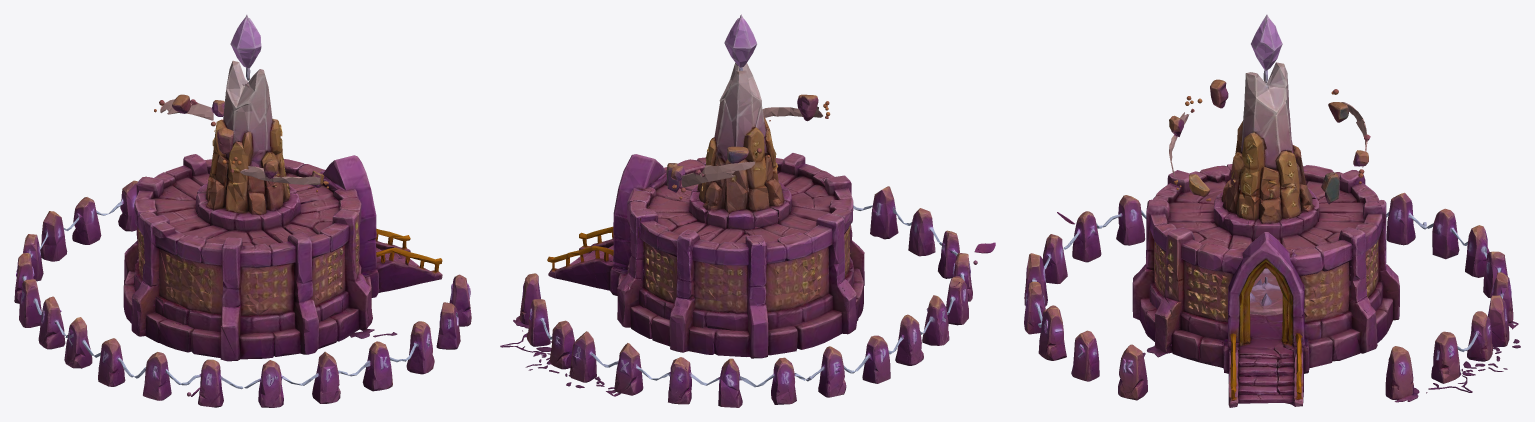
File: sanctuary_t4.glb
3 views of the same model, side by side, from view 1: azimuth 30°, elevation 25°; view 2: azimuth 150°, elevation 25°; view 3: azimuth 270°, elevation 25° (orthographic). The views are drawn at different scales.
Visible parts, largest first — view 1: tripo_part_17, tripo_part_20, tripo_part_21, tripo_part_41, tripo_part_1, tripo_part_6, tripo_part_0, tripo_part_16, tripo_part_2, tripo_part_4, tripo_part_19, tripo_part_12 (+10 smaller); view 2: tripo_part_17, tripo_part_20, tripo_part_21, tripo_part_41, tripo_part_51, tripo_part_1, tripo_part_32, tripo_part_16, tripo_part_27, tripo_part_34, tripo_part_29, tripo_part_30 (+13 smaller); view 3: tripo_part_17, tripo_part_20, tripo_part_21, tripo_part_41, tripo_part_1, tripo_part_51, tripo_part_33, tripo_part_7, tripo_part_29, tripo_part_34, tripo_part_6, tripo_part_36 (+11 smaller).
Part boxes in pixels (bbox=[...]): tripo_part_17: bbox=[123, 154, 382, 361]; tripo_part_20: bbox=[193, 60, 289, 215]; tripo_part_21: bbox=[375, 228, 442, 292]; tripo_part_41: bbox=[23, 197, 117, 281]; tripo_part_1: bbox=[244, 351, 370, 407]; tripo_part_6: bbox=[134, 352, 188, 400]; tripo_part_0: bbox=[362, 341, 412, 391]; tripo_part_16: bbox=[55, 317, 103, 368]; tripo_part_2: bbox=[406, 321, 434, 374]; tripo_part_4: bbox=[187, 359, 243, 407]; tripo_part_19: bbox=[230, 14, 261, 80]; tripo_part_12: bbox=[98, 338, 134, 386]; tripo_part_17: bbox=[610, 153, 864, 358]; tripo_part_20: bbox=[694, 63, 787, 230]; tripo_part_21: bbox=[547, 226, 644, 295]; tripo_part_41: bbox=[639, 357, 805, 407]; tripo_part_51: bbox=[569, 331, 643, 396]; tripo_part_1: bbox=[853, 186, 939, 256]; tripo_part_32: bbox=[669, 234, 694, 352]; tripo_part_16: bbox=[920, 282, 963, 345]; tripo_part_27: bbox=[855, 327, 908, 383]; tripo_part_34: bbox=[806, 346, 854, 397]; tripo_part_29: bbox=[620, 209, 646, 291]; tripo_part_30: bbox=[671, 161, 755, 187]; tripo_part_17: bbox=[1132, 164, 1398, 373]; tripo_part_20: bbox=[1220, 62, 1318, 224]; tripo_part_21: bbox=[1228, 333, 1309, 407]; tripo_part_41: bbox=[1426, 208, 1506, 298]; tripo_part_1: bbox=[1024, 234, 1067, 306]; tripo_part_51: bbox=[1488, 272, 1518, 346]; tripo_part_33: bbox=[1385, 346, 1427, 402]; tripo_part_7: bbox=[1118, 344, 1147, 400]; tripo_part_29: bbox=[1346, 229, 1375, 313]; tripo_part_34: bbox=[1386, 192, 1426, 245]; tripo_part_6: bbox=[1099, 195, 1146, 245]; tripo_part_36: bbox=[1431, 331, 1460, 383].
Bounding box in the file's own units: 0.8928 × 0.6824 × 0.9998.
Materials: 54 (54 with a texture image).
